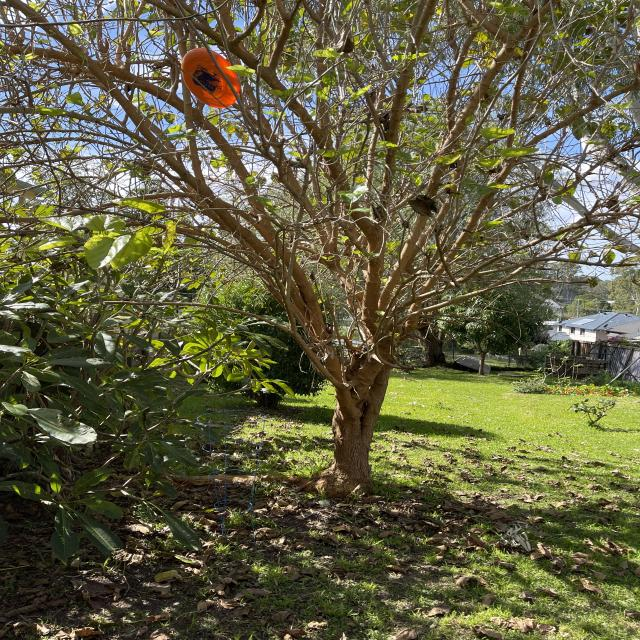bowl: (166, 49, 249, 107)
container: (190, 408, 281, 545)
